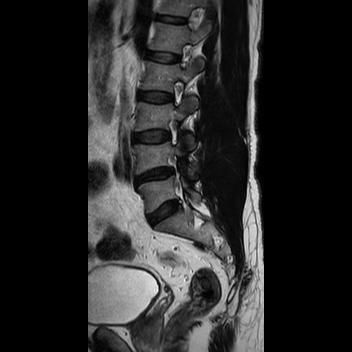RFS0: (162, 112, 186, 148), (163, 75, 188, 109)
